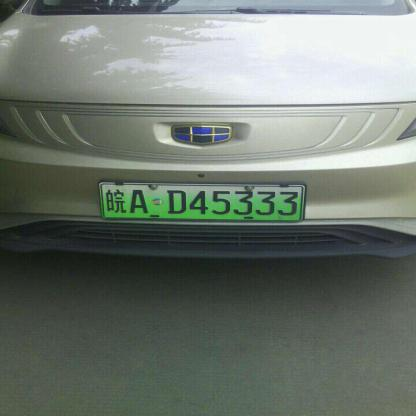lp: (102, 184, 302, 219)
